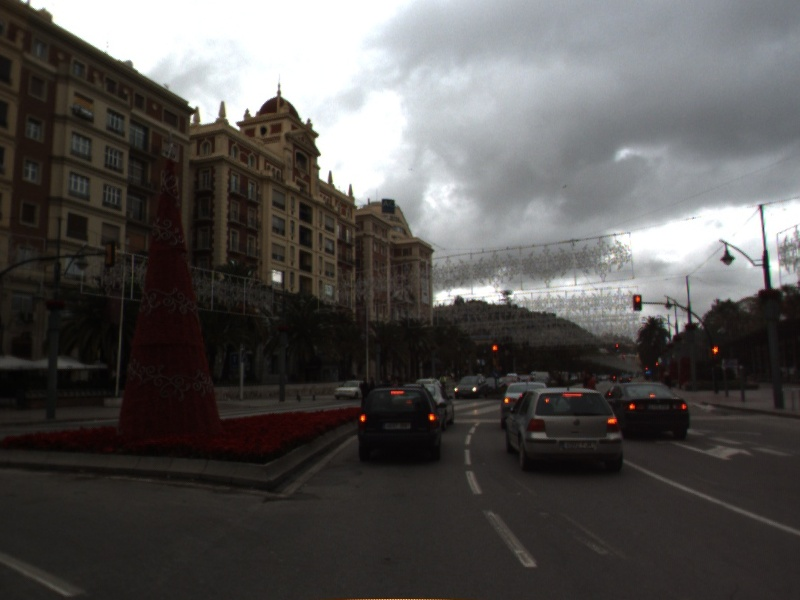STRAIGHT_RIGHT: (653, 436, 756, 462)
